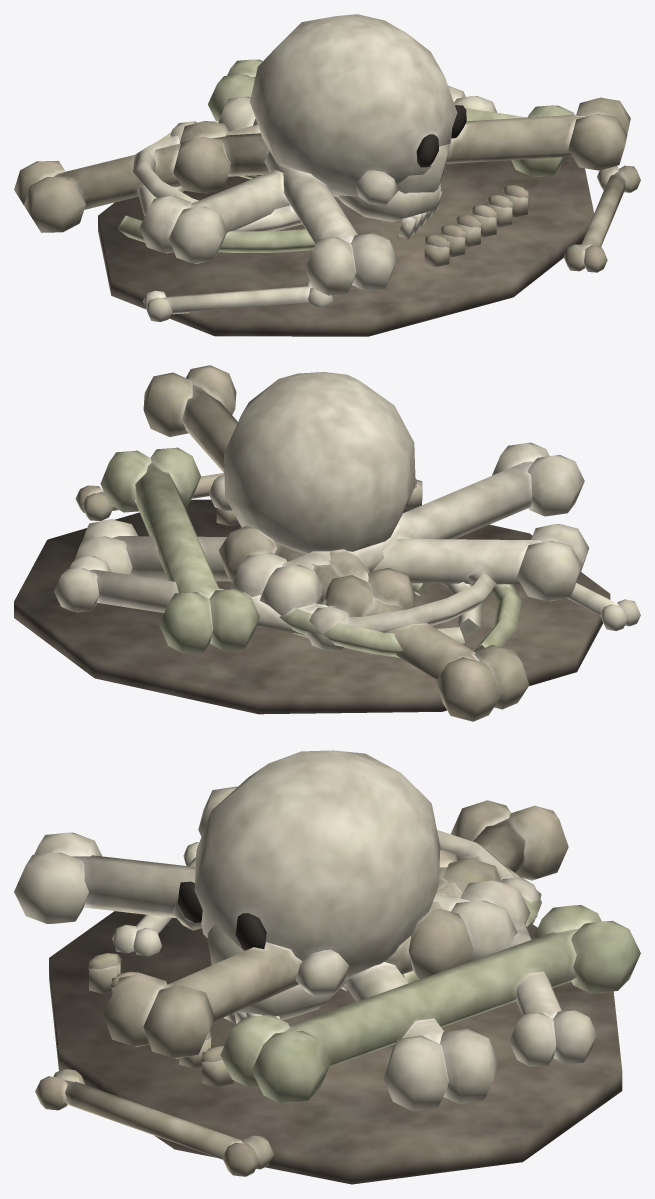
File: bones_pile.glb
3 views of the same model, one above another, from view 1: azimuth 30°, elevation 25°; view 2: azimuth 150°, elevation 25°; view 3: azimuth 270°, elevation 25° (orthographic). The views are drawn at different scales.
Visible parts, largest first — view 1: bones_pile; view 2: bones_pile; view 3: bones_pile.
Part boxes in pixels (x1,y1,x2,y2): bones_pile: [14, 14, 640, 336]; bones_pile: [14, 365, 640, 721]; bones_pile: [14, 750, 640, 1184].
Size of the model in its own units: 0.8371 by 0.3294 by 0.6928.
1 material, 1 textured.
